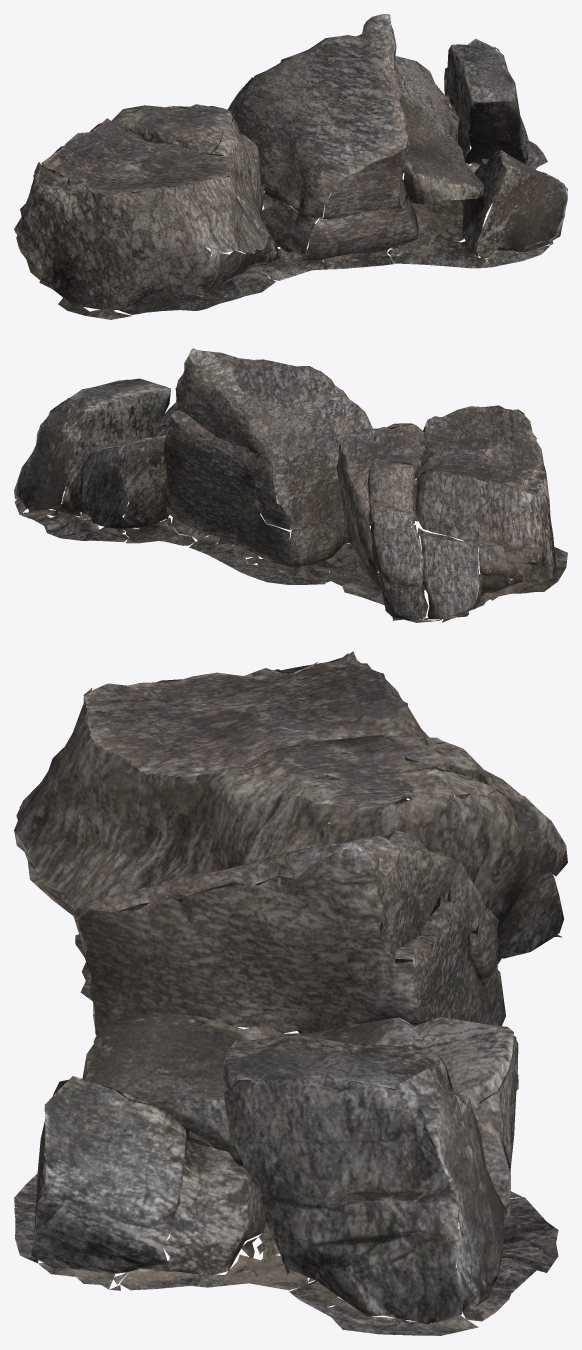
File: granite_boulder_a.gltf
The picture shows the model from 3 angles, top to bottom: view 1: azimuth 30°, elevation 25°; view 2: azimuth 150°, elevation 25°; view 3: azimuth 270°, elevation 25°; orthographic projection. The views are drawn at different scales.
Visible parts, largest first — view 1: granite_boulder_a; view 2: granite_boulder_a; view 3: granite_boulder_a.
Part boxes in pixels (bbox=[...]): granite_boulder_a: bbox=[14, 14, 567, 319]; granite_boulder_a: bbox=[14, 348, 567, 622]; granite_boulder_a: bbox=[14, 651, 567, 1335].
Size of the model in its own units: 2.52 by 0.8766 by 1.23.
1 material, 1 textured.
